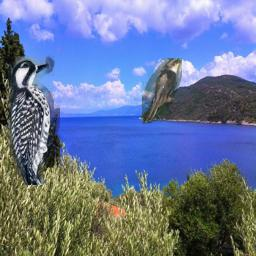Cuckoo: (142, 58, 182, 124)
Woodpecker: (8, 55, 60, 185)
